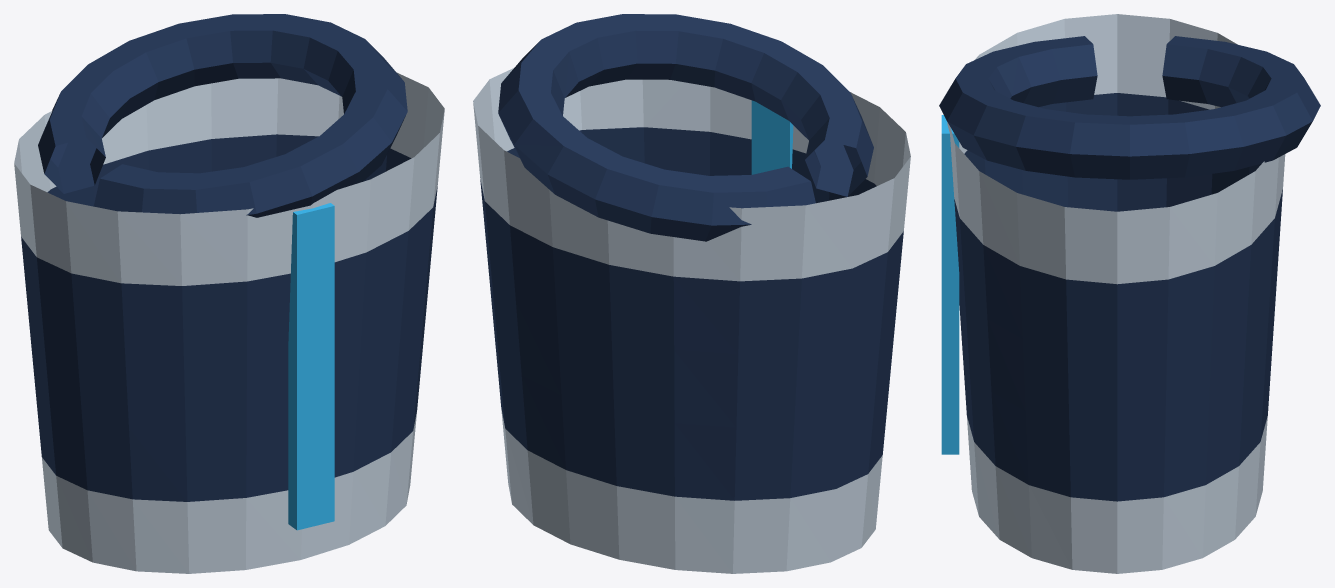
Rendered from Skin_StarterTop.obj.
3 renders of one model, left to right at view 1: azimuth 30°, elevation 25°; view 2: azimuth 150°, elevation 25°; view 3: azimuth 270°, elevation 25°, orthographic.
Parts seen in each view (by area): view 1: Skin_StarterTop_BaseArmor, Skin_StarterTop_TrimMetal, Skin_StarterTop_EmissiveCore; view 2: Skin_StarterTop_BaseArmor, Skin_StarterTop_TrimMetal, Skin_StarterTop_EmissiveCore; view 3: Skin_StarterTop_BaseArmor, Skin_StarterTop_TrimMetal, Skin_StarterTop_EmissiveCore.
Boxes of the visible parts, x1,y1,x2,y2 form: Skin_StarterTop_BaseArmor: (21,14,437,501); Skin_StarterTop_TrimMetal: (14,72,444,573); Skin_StarterTop_EmissiveCore: (288,203,334,530); Skin_StarterTop_BaseArmor: (480,14,903,500); Skin_StarterTop_TrimMetal: (473,68,910,573); Skin_StarterTop_EmissiveCore: (751,100,793,174); Skin_StarterTop_BaseArmor: (939,36,1320,501); Skin_StarterTop_TrimMetal: (947,14,1285,573); Skin_StarterTop_EmissiveCore: (941,115,959,454).
Bounding box in the file's own units: 0.37 × 0.3811 × 0.3019.
